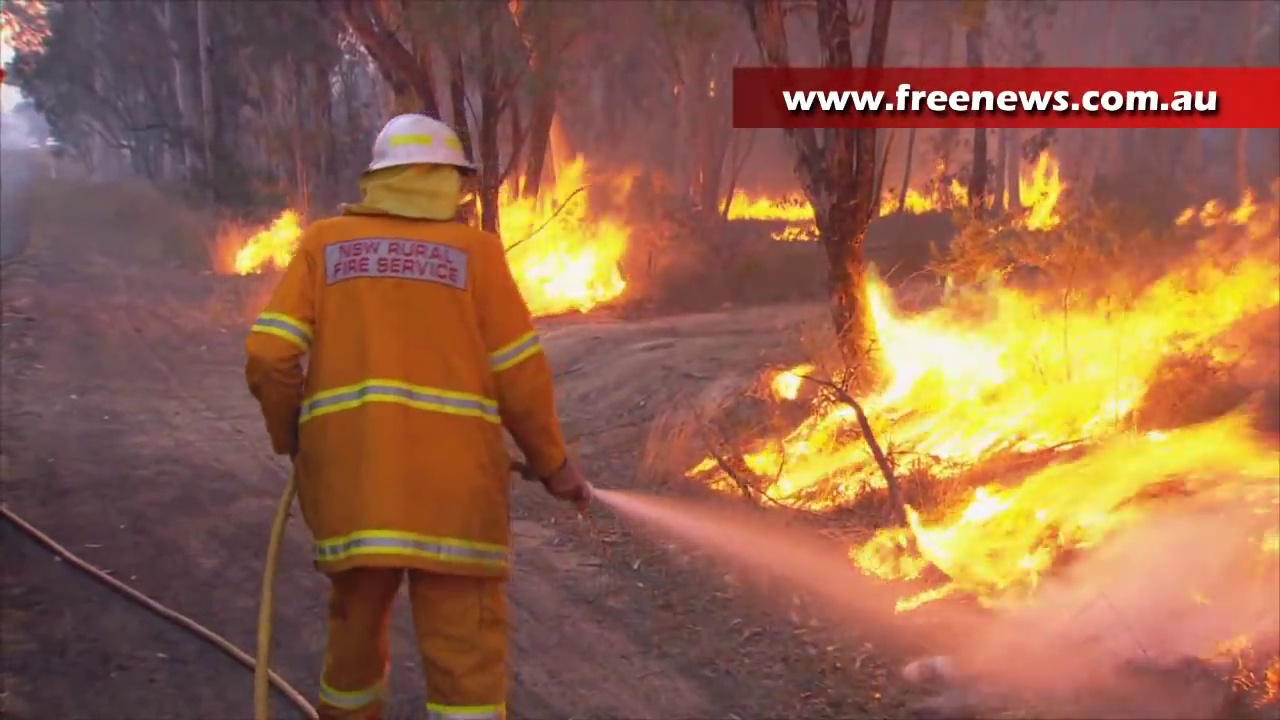fire: (698, 259, 1280, 605), (501, 158, 628, 275), (234, 209, 300, 274), (728, 187, 809, 224), (1019, 157, 1056, 225), (887, 191, 953, 212)
